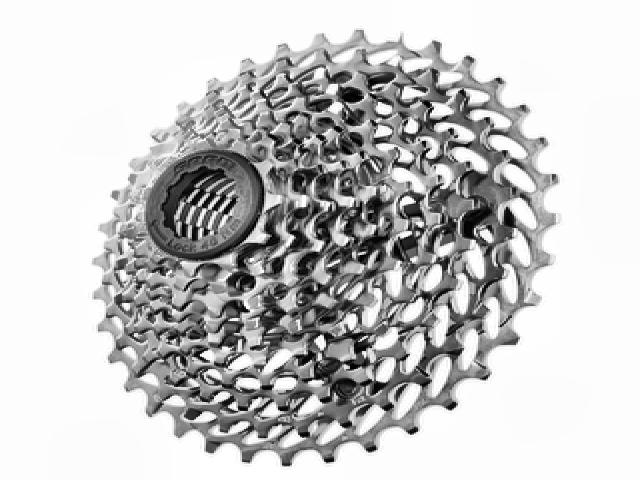cassette: (88, 26, 565, 457)
